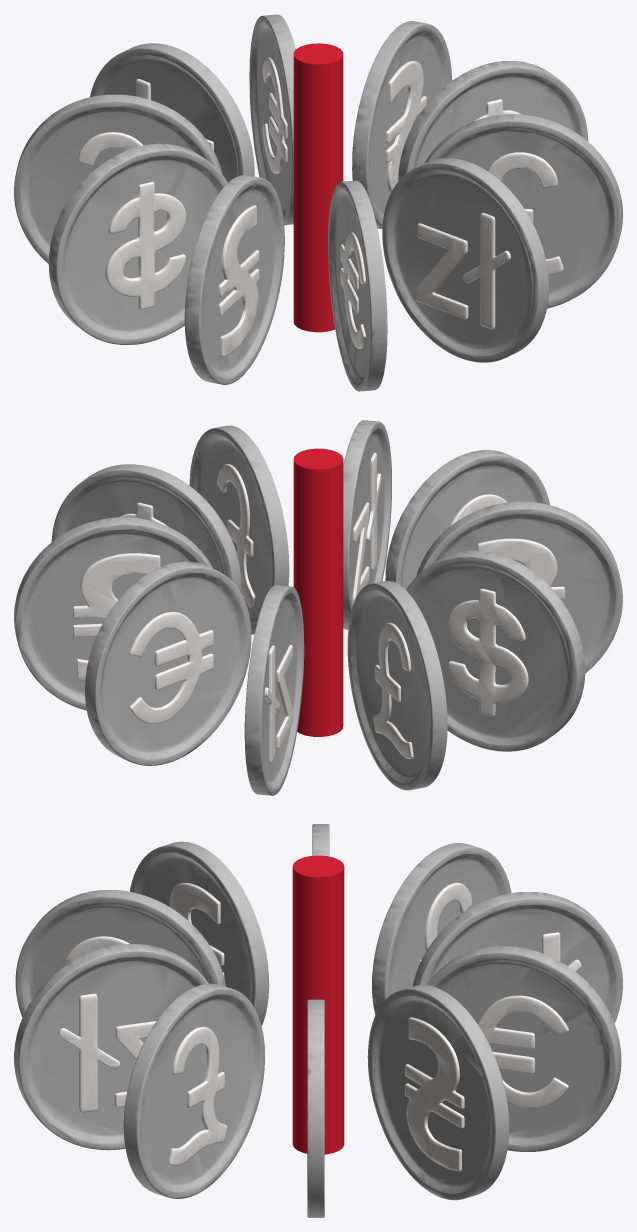
3 renders of one model, top to bottom at view 1: azimuth 30°, elevation 25°; view 2: azimuth 150°, elevation 25°; view 3: azimuth 270°, elevation 25°, orthographic. The views are drawn at different scales.
Visible parts, largest first — view 1: polySurface294, pCylinder69, polySurface295, polySurface291, polySurface293, polySurface292, polySurface290; view 2: polySurface294, pCylinder69, polySurface295, polySurface291, polySurface292, polySurface290, polySurface293; view 3: polySurface294, pCylinder69, polySurface291, polySurface292, polySurface290, polySurface293.
Part boxes in pixels (x1,y1,x2,y2): polySurface294: (14,14,622,391); pCylinder69: (293,43,343,332); polySurface295: (105,99,521,309); polySurface291: (218,61,426,357); polySurface293: (136,79,510,329); polySurface292: (262,57,365,348); polySurface290: (78,132,563,275); polySurface294: (14,420,622,795); pCylinder69: (293,448,343,736); polySurface295: (119,502,528,716); polySurface291: (72,538,564,681); polySurface292: (129,494,507,724); polySurface290: (217,464,413,758); polySurface293: (264,452,381,763); polySurface294: (14,824,622,1217); pCylinder69: (292,855,344,1154); polySurface291: (169,883,464,1171); polySurface292: (65,936,568,1108); polySurface290: (168,882,472,1165); polySurface293: (58,932,581,1112).
Bounding box in the file's own units: 0.2441 × 0.118 × 0.2346.
